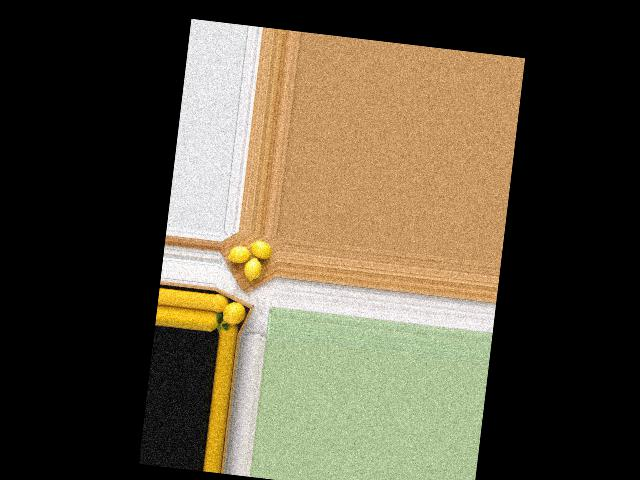lemon: (248, 237, 276, 265)
